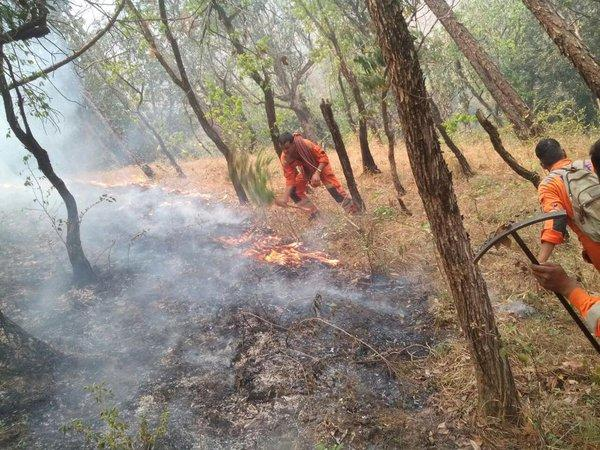fire: (252, 232, 301, 268)
smoke: (46, 302, 160, 378), (171, 273, 268, 310)
